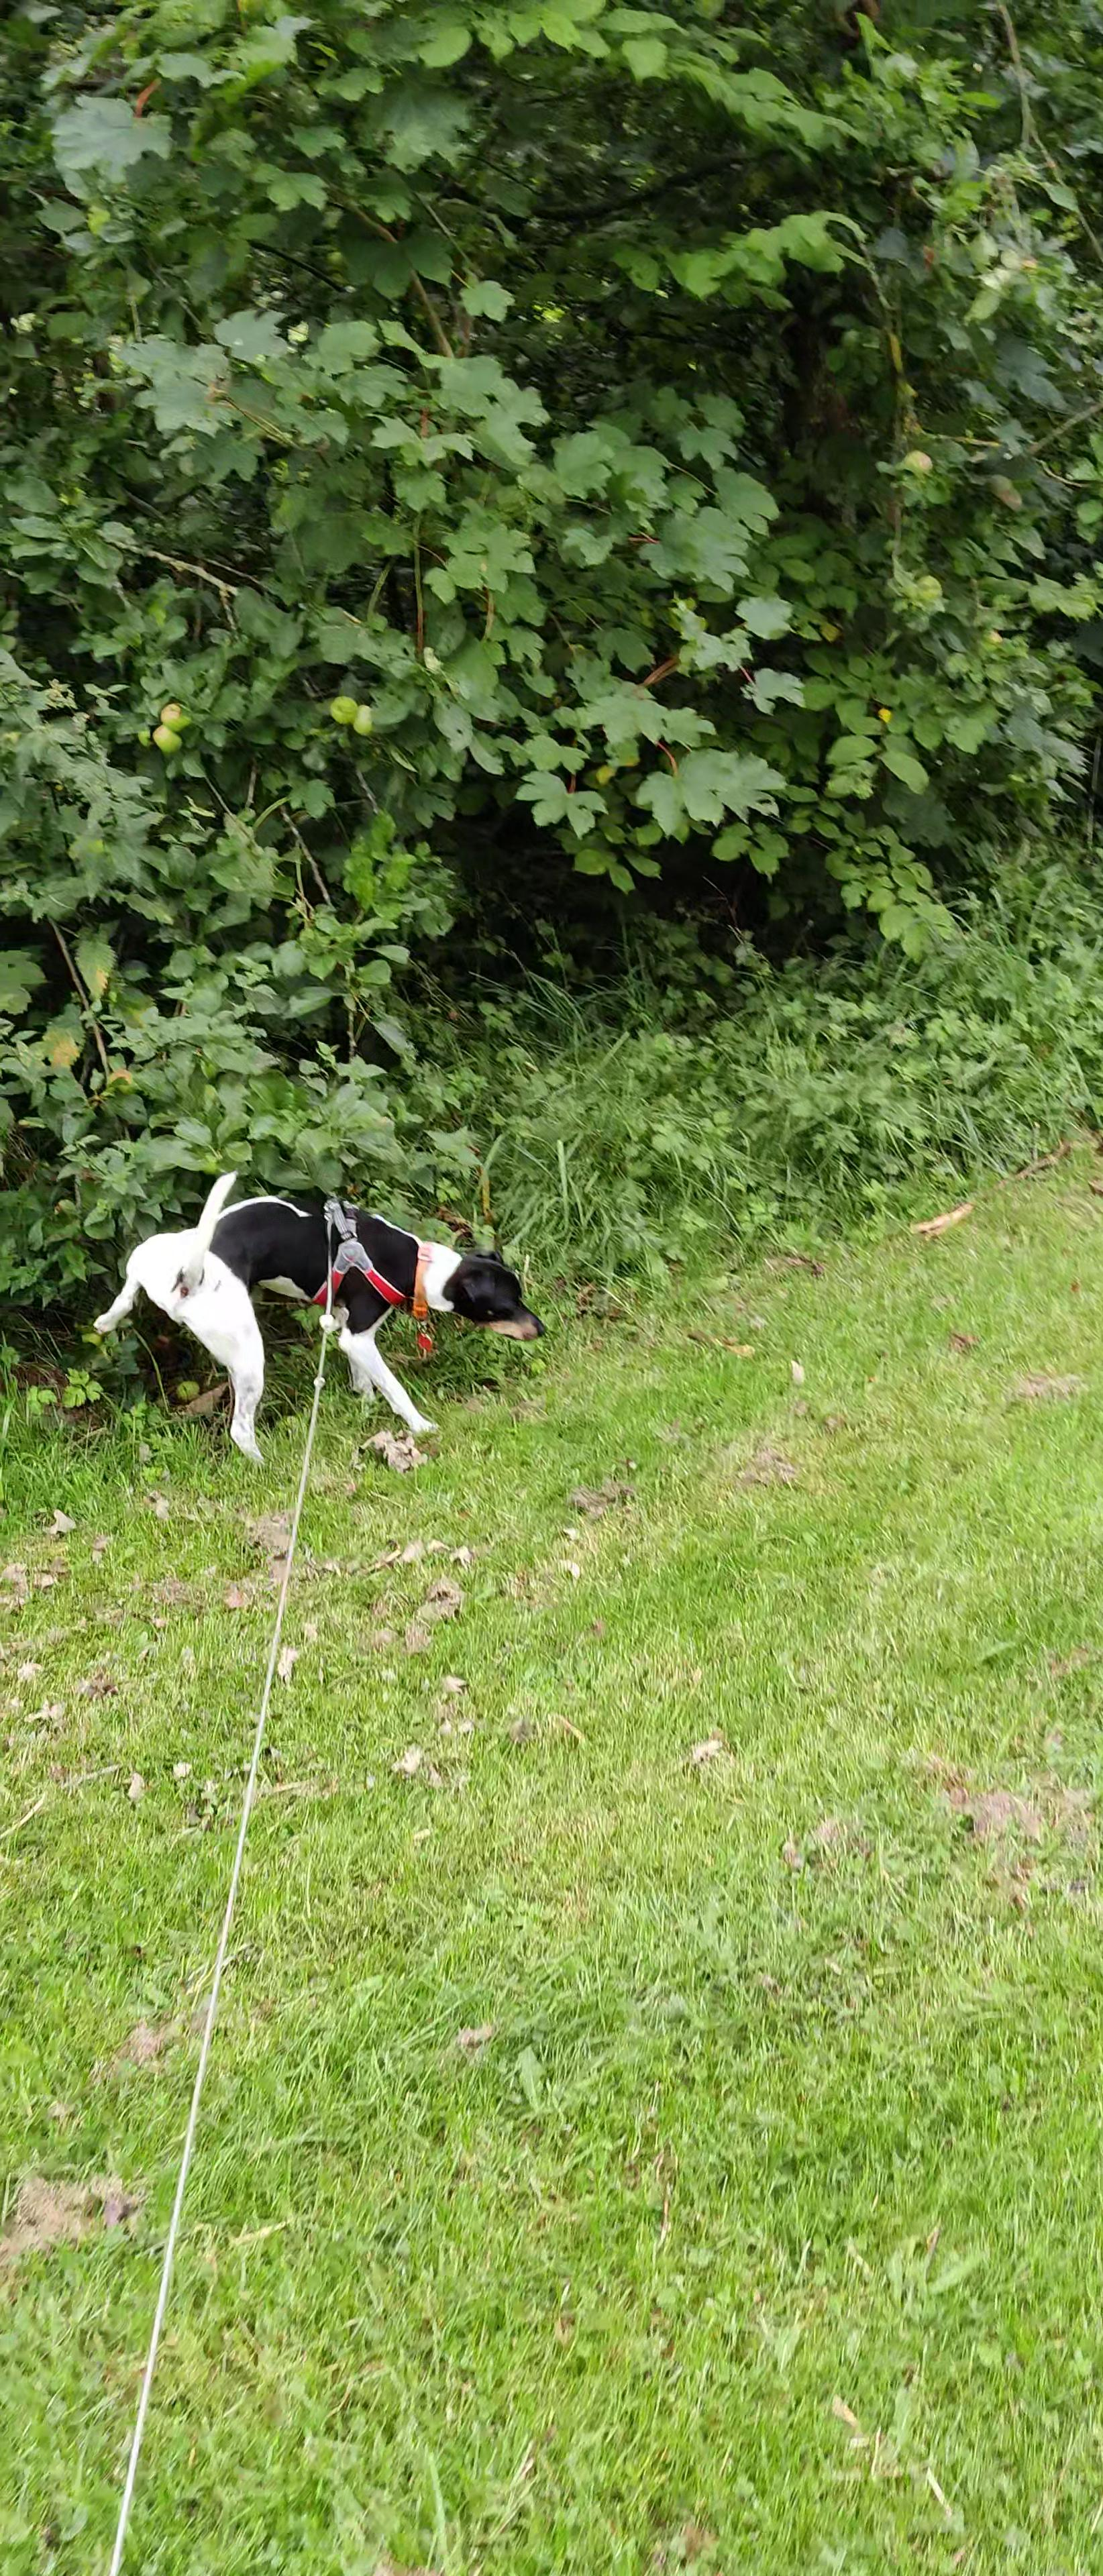Dog: (90, 1163, 552, 1472)
